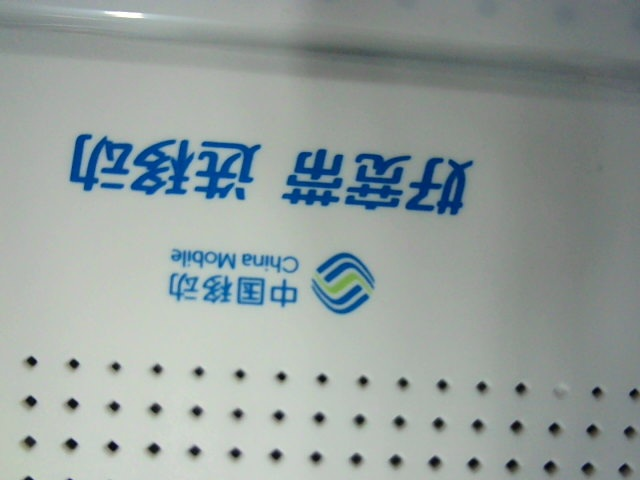AA_ChinaMoble: (61, 122, 473, 325)
